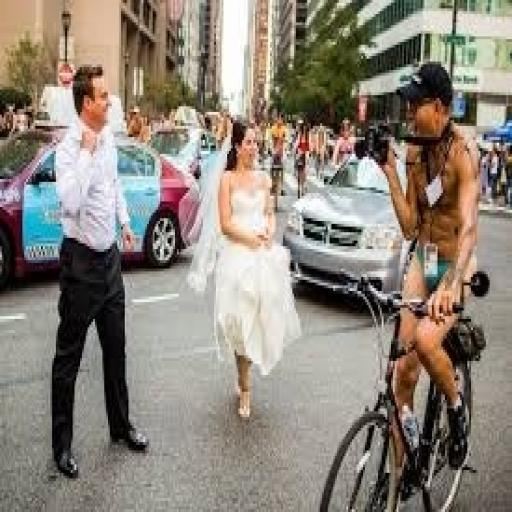cycling: (374, 59, 484, 478)
